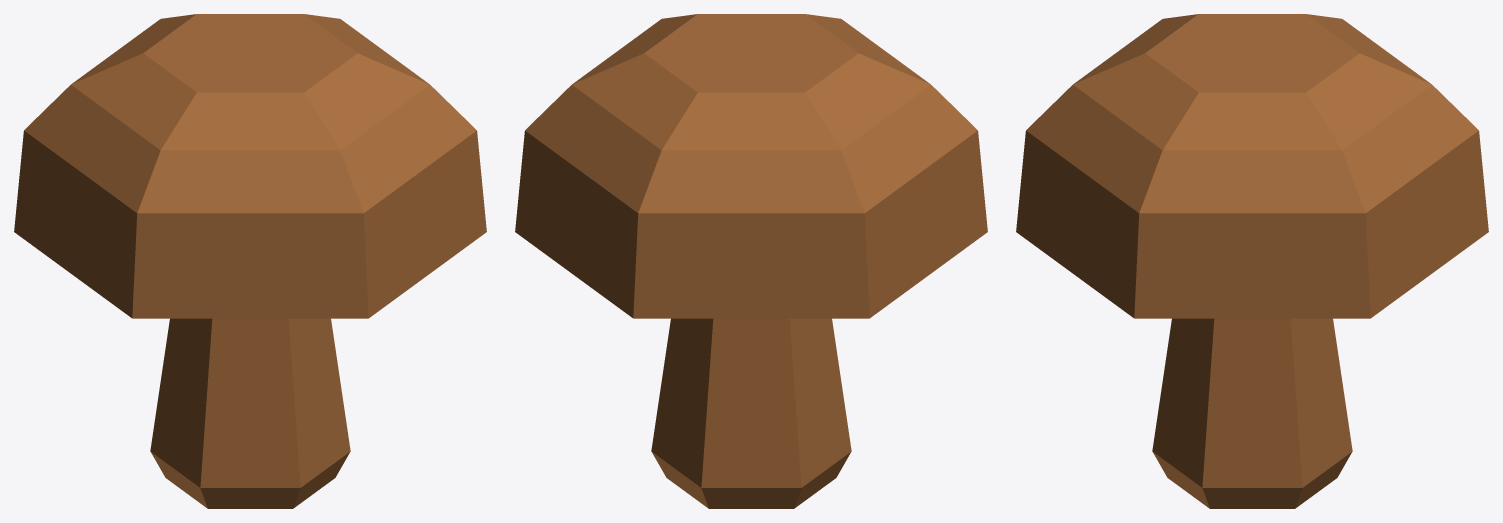
The model's file is Mushroom.obj.
3 views of the same model, side by side, from view 1: azimuth 30°, elevation 25°; view 2: azimuth 150°, elevation 25°; view 3: azimuth 270°, elevation 25° (orthographic).
Parts seen in each view (by area): view 1: Mushroom; view 2: Mushroom; view 3: Mushroom.
Part boxes in pixels (bbox=[...]): Mushroom: bbox=[14, 14, 486, 508]; Mushroom: bbox=[515, 14, 987, 508]; Mushroom: bbox=[1016, 14, 1488, 508].
Size of the model in its own units: 0.3581 by 0.4096 by 0.4135.
